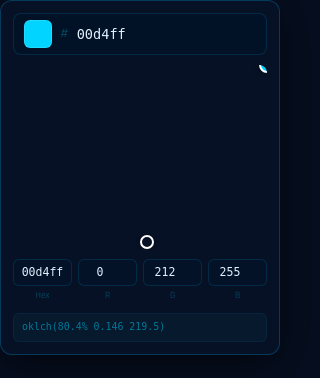
Scenario: ColorPicker › HEX 输入应过滤非法字符并截断至 6 位
Replace the text in the 1st field showing "00d4ff" with "zz12ab!987". click: (166, 34)
box: [77,24,256,44]
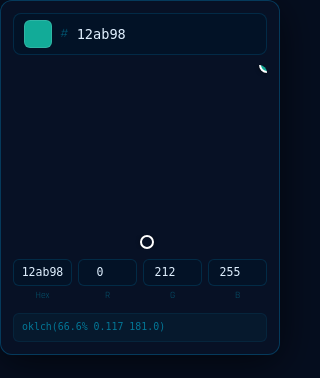
Check: the 1st field showing "00d4ff" holds "12ab98", box [77,24,256,44]
